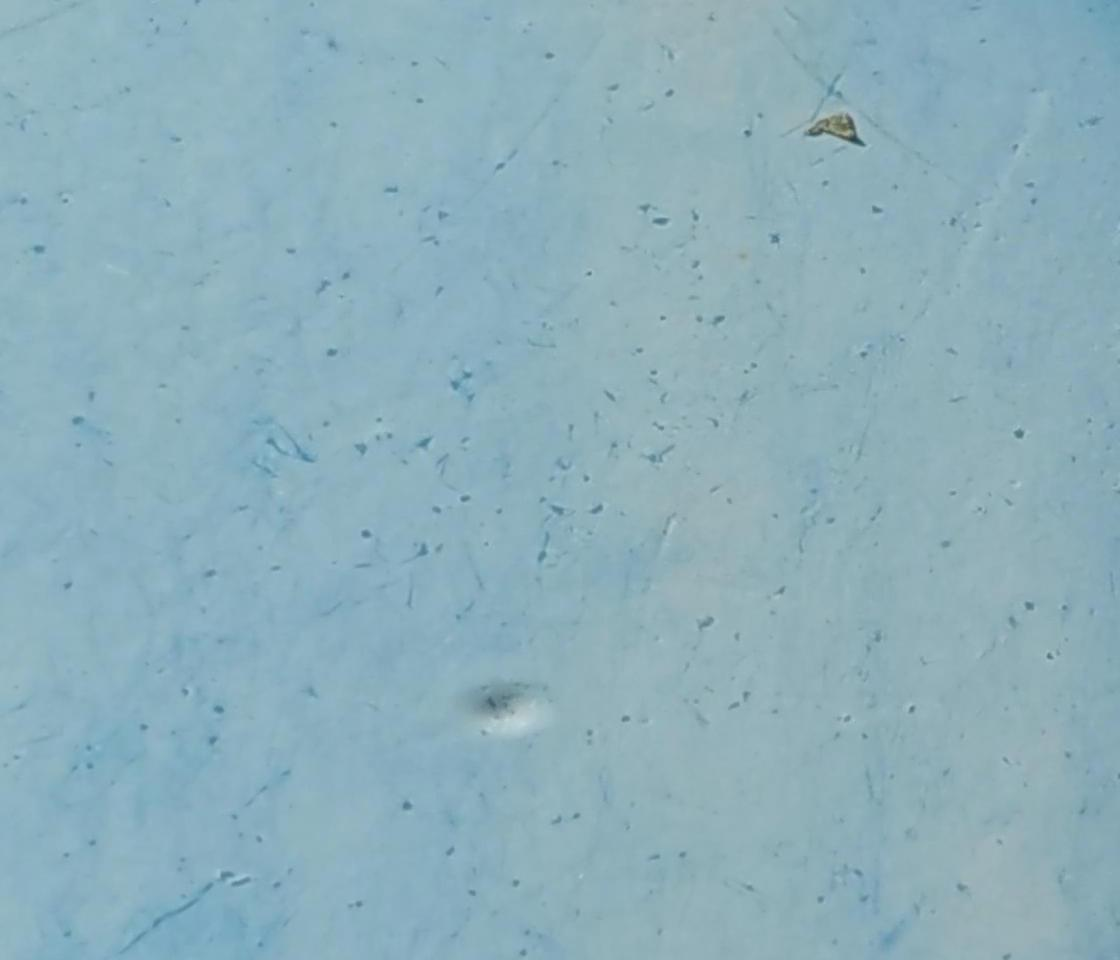paint_peel: (790, 101, 880, 153)
